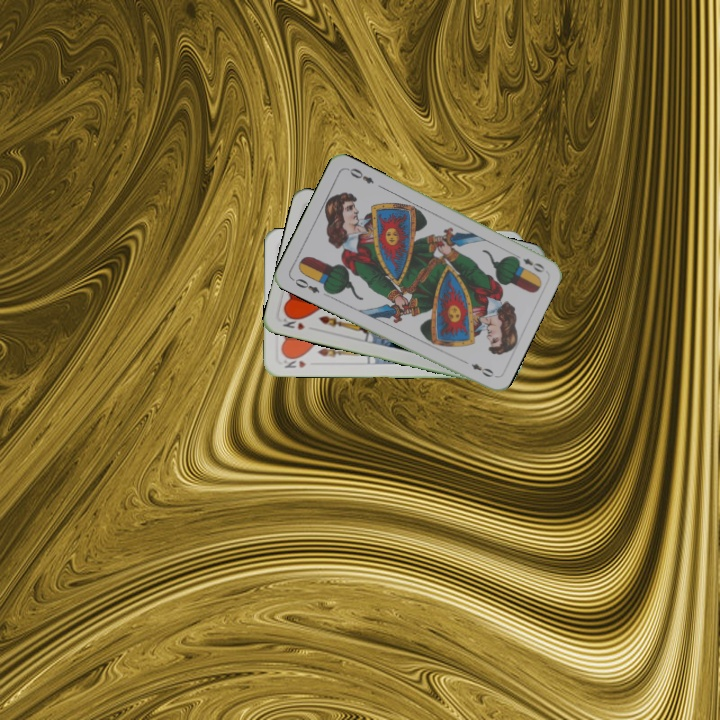EO: (510, 250, 547, 275), (288, 274, 322, 296)
HK: (280, 353, 309, 370), (279, 317, 307, 333)
